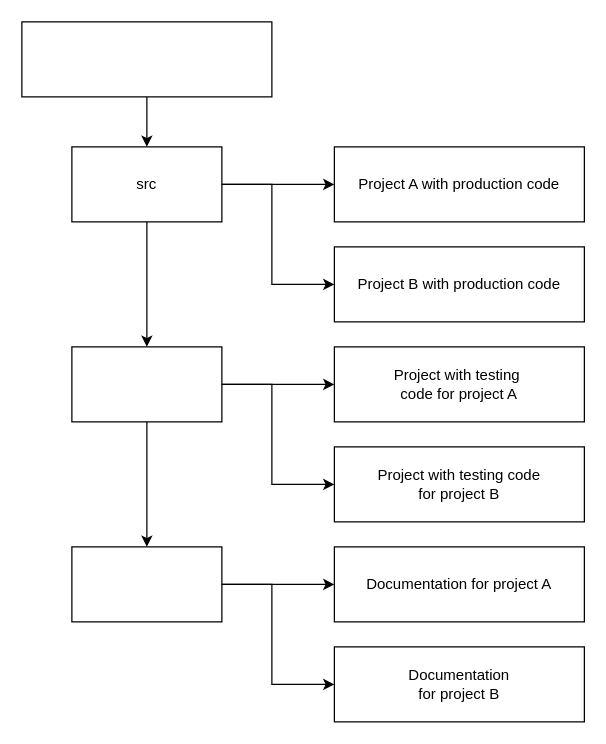
This 606x744 diagram has some shape labels left out. The centre of each missing label's shape, as x and y in pixels:
"doc" belongs at point 146,584.
"Git repo" belongs at point 146,59.
"tests" belongs at point 146,384.
